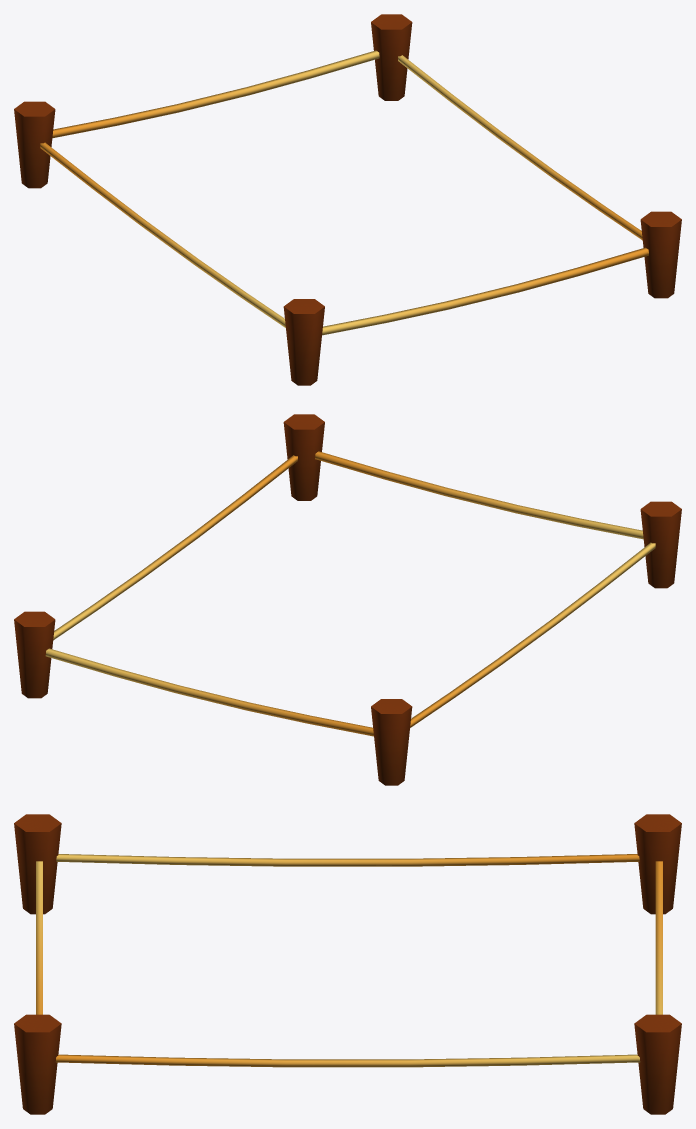
Rendered from VikingHouse_01_S.fbx.
The picture shows the model from 3 angles, top to bottom: view 1: azimuth 30°, elevation 25°; view 2: azimuth 150°, elevation 25°; view 3: azimuth 270°, elevation 25°; orthographic projection. The views are drawn at different scales.
Visible parts, largest first — view 1: VikingHouse_01_S; view 2: VikingHouse_01_S; view 3: VikingHouse_01_S.
Part boxes in pixels (box(x1,y1,x2,y2)): VikingHouse_01_S: box(14, 14, 681, 385); VikingHouse_01_S: box(14, 414, 681, 785); VikingHouse_01_S: box(14, 814, 681, 1114).
Size of the model in its own units: 202 by 37.06 by 262.
Materials: 1 (1 with a texture image).
